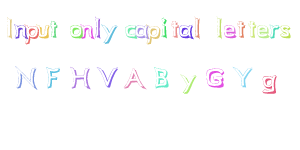A: (124, 65, 147, 92)
B: (148, 62, 173, 90)
F: (42, 63, 61, 91)
G: (202, 61, 229, 90)
H: (67, 63, 93, 92)
I: (5, 14, 18, 42)
N: (9, 62, 40, 93)
V: (96, 63, 118, 90)
Y: (231, 64, 254, 90)
a: (180, 20, 193, 42), (136, 23, 150, 40)
c: (124, 21, 136, 40)
e: (223, 23, 237, 40), (256, 24, 271, 39)
g: (257, 74, 283, 98)
i: (159, 16, 170, 39)
l: (194, 13, 203, 42), (93, 16, 103, 42), (214, 16, 224, 40)
n: (81, 21, 94, 41), (13, 23, 28, 39)
o: (69, 22, 84, 45)
p: (25, 24, 39, 47), (147, 22, 158, 47)
r: (269, 20, 280, 41)
s: (279, 22, 293, 39)
t: (247, 17, 258, 40), (169, 19, 181, 39), (236, 19, 247, 40), (49, 18, 59, 37)
u: (38, 22, 50, 40)
y: (178, 72, 200, 96), (101, 22, 120, 47)
